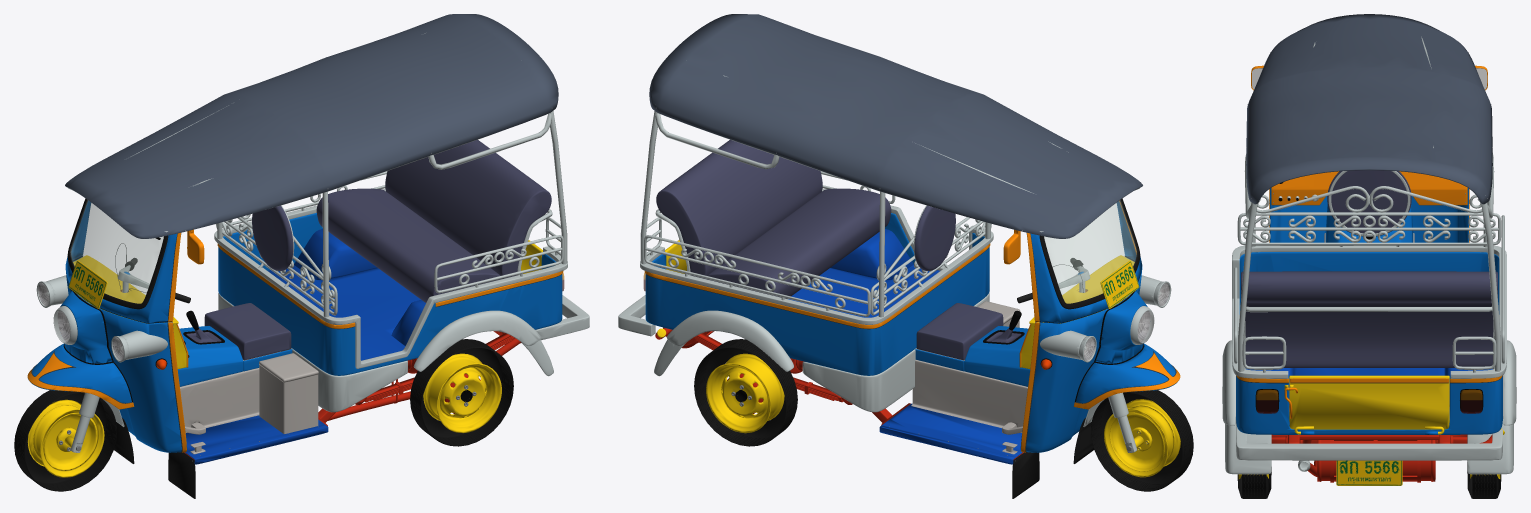
File: tuktuk.mid.glb
3 renders of one model, left to right at view 1: azimuth 30°, elevation 25°; view 2: azimuth 150°, elevation 25°; view 3: azimuth 270°, elevation 25°, orthographic. The views are drawn at different scales.
Parts seen in each view (by area): view 1: roof, passenger seat, passenger cabin, front body, passenger floor sheet, engine cover, windshield, passenger cabin welding, rim rear, battery box, rim front, tyre rear (+22 smaller); view 2: roof, passenger seat, passenger cabin, engine cover, front body, windshield, passenger cabin welding, rim rear, passenger floor sheet, driver floor sheet, rim front, passenger cabin side railing (+20 smaller); view 3: roof, passenger seat, passenger cabin, passenger cabin railing, boot door, rear bumper, Rear wheel arch, passenger cabin welding, driver seat backrest, front body, dashboard, roof pillers (+12 smaller).
Part boxes in pixels (left/top/right/bottom): roof: left=65, top=14, right=558, bottom=238; passenger seat: left=316, top=139, right=551, bottom=302; passenger cabin: left=218, top=213, right=562, bottom=412; front body: left=65, top=200, right=187, bottom=452; passenger floor sheet: left=268, top=229, right=425, bottom=360; engine cover: left=177, top=326, right=292, bottom=454; windshield: left=70, top=200, right=163, bottom=303; passenger cabin welding: left=214, top=188, right=567, bottom=368; rim rear: left=423, top=353, right=501, bottom=433; battery box: left=259, top=353, right=318, bottom=433; rim front: left=27, top=399, right=104, bottom=477; tyre rear: left=410, top=339, right=513, bottom=446; roof: left=649, top=14, right=1142, bottom=238; passenger seat: left=656, top=139, right=891, bottom=298; passenger cabin: left=645, top=213, right=989, bottom=412; engine cover: left=911, top=326, right=1030, bottom=454; front body: left=1020, top=201, right=1142, bottom=452; windshield: left=1044, top=200, right=1137, bottom=303; passenger cabin welding: left=640, top=188, right=993, bottom=329; rim rear: left=706, top=353, right=784, bottom=433; passenger floor sheet: left=788, top=229, right=939, bottom=317; driver floor sheet: left=879, top=403, right=1022, bottom=464; rim front: left=1104, top=399, right=1180, bottom=477; passenger cabin side railing: left=644, top=171, right=895, bottom=316; roof: left=1246, top=14, right=1492, bottom=204; passenger seat: left=1241, top=271, right=1497, bottom=367; passenger cabin: left=1236, top=252, right=1502, bottom=434; passenger cabin railing: left=1237, top=186, right=1501, bottom=372; boot door: left=1289, top=375, right=1449, bottom=429; rear bumper: left=1236, top=420, right=1502, bottom=460; Rear wheel arch: left=1222, top=340, right=1516, bottom=474; passenger cabin welding: left=1232, top=245, right=1506, bottom=383; driver seat backrest: left=1327, top=170, right=1411, bottom=236; front body: left=1270, top=188, right=1468, bottom=242; dashboard: left=1271, top=171, right=1467, bottom=205; roof pillers: left=1238, top=153, right=1500, bottom=371.
Bounding box in the file's own units: 3.03 × 1.95 × 1.37.
Materials: 22 (4 with a texture image).
